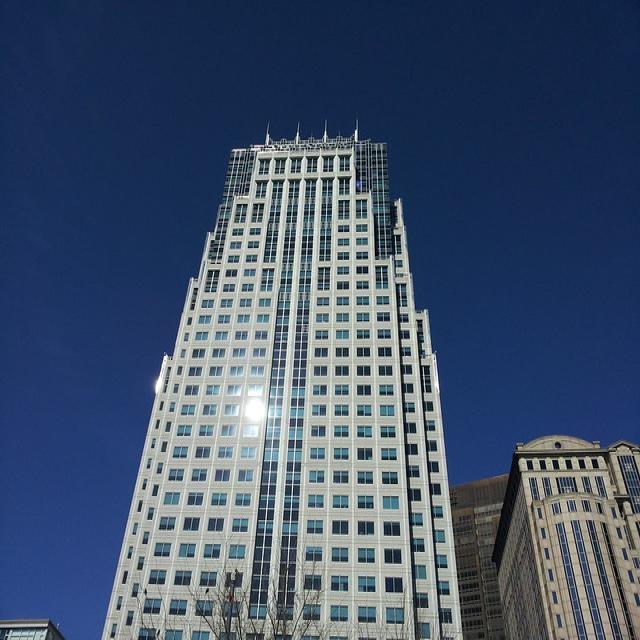building: (99, 125, 468, 640)
